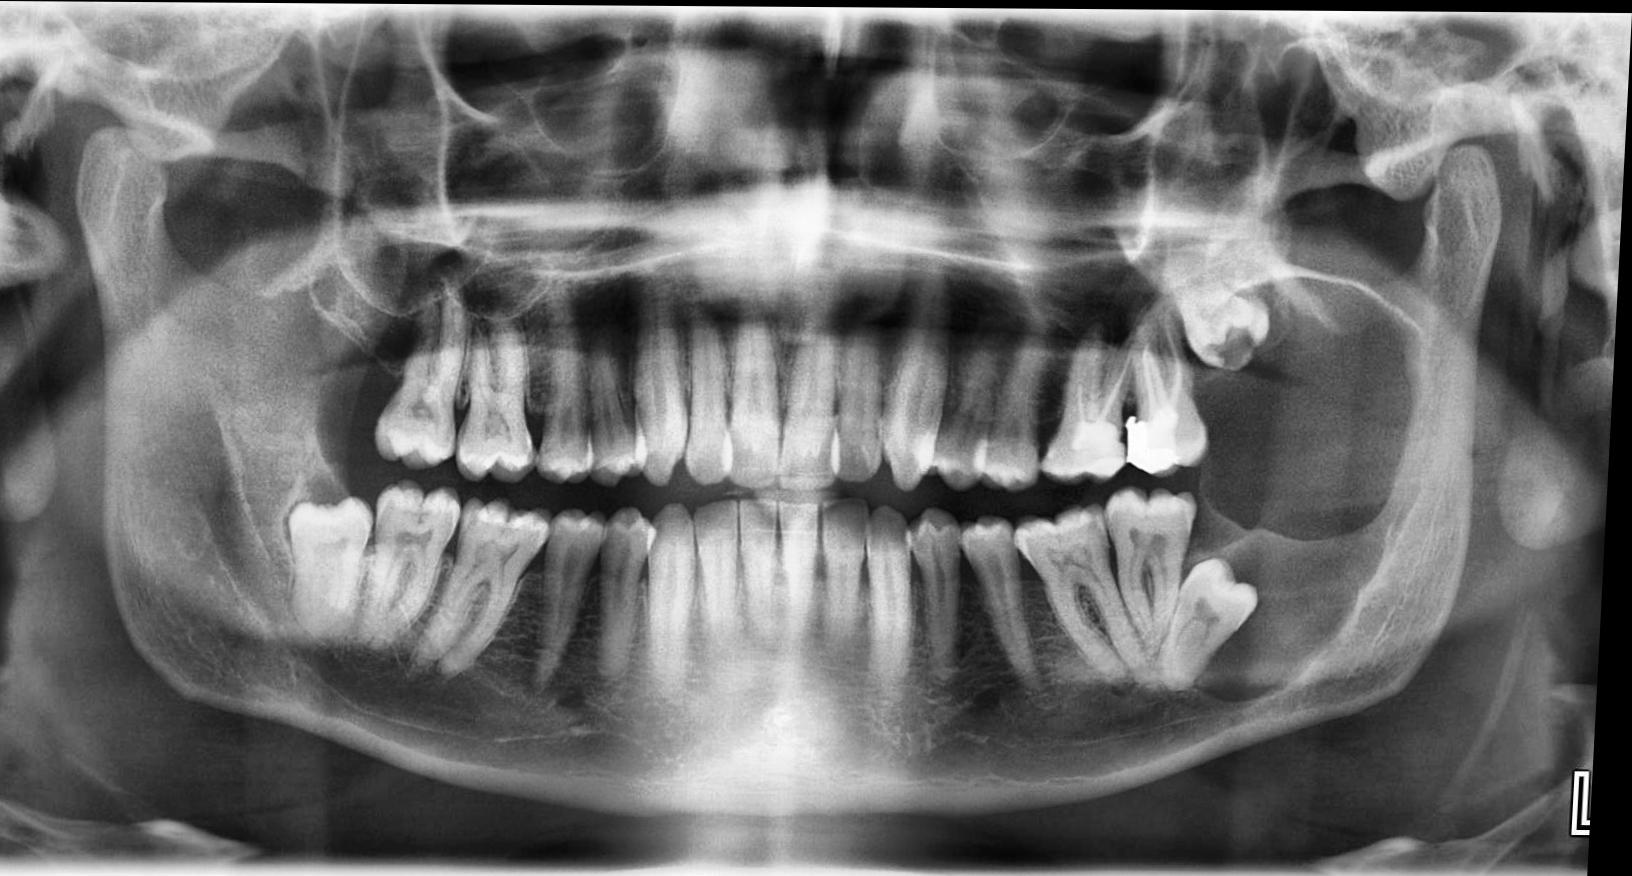dentigeroz: (1198, 271, 1439, 711)
